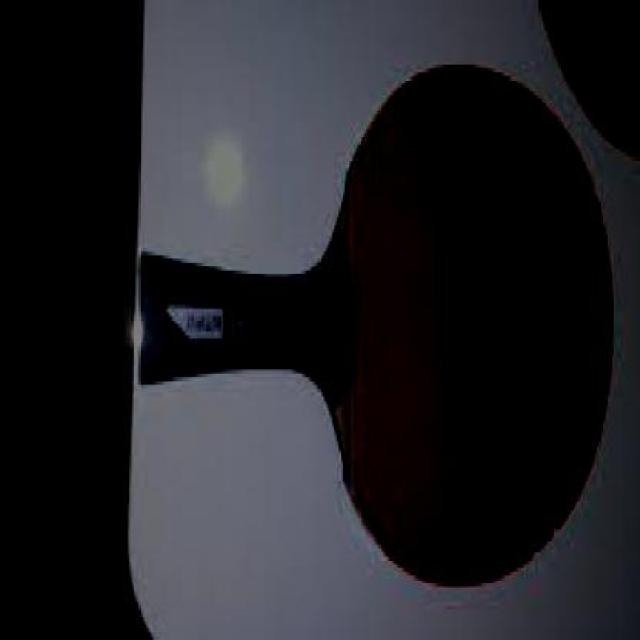table_tennis_racket: (142, 65, 617, 594)
